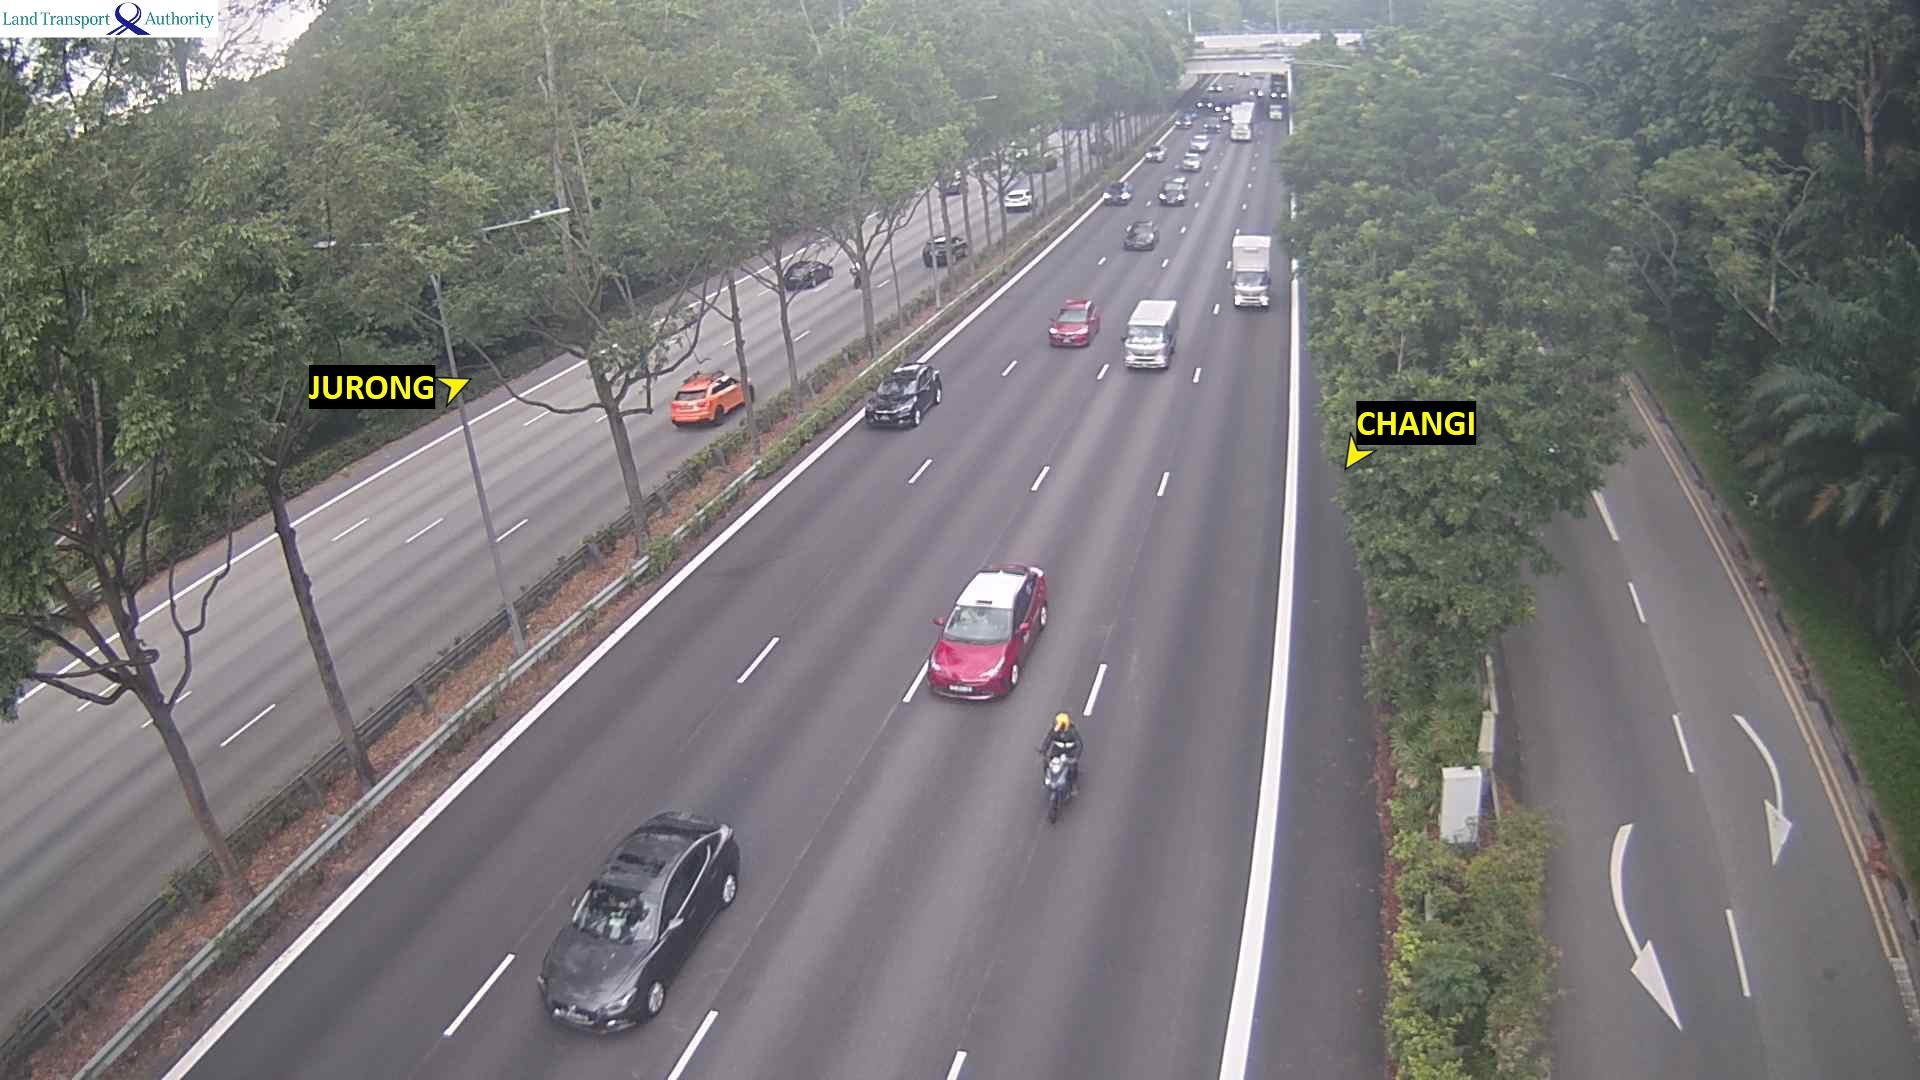incoming: (528, 875, 693, 1038), (919, 597, 1034, 708), (1027, 735, 1085, 831), (863, 374, 930, 433), (1118, 321, 1175, 373), (1047, 305, 1097, 350), (1229, 266, 1274, 312), (1121, 222, 1159, 253), (1101, 181, 1132, 207), (1159, 180, 1187, 208), (1229, 119, 1254, 142), (1269, 78, 1291, 100), (1181, 154, 1204, 172), (1144, 146, 1168, 163), (1188, 135, 1210, 153), (1266, 103, 1285, 121), (1202, 116, 1222, 133), (1194, 95, 1215, 110), (1174, 114, 1193, 129)
